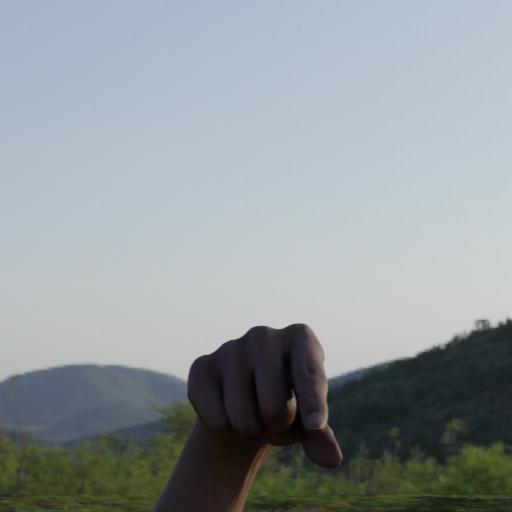Q: (184, 319, 348, 477)
